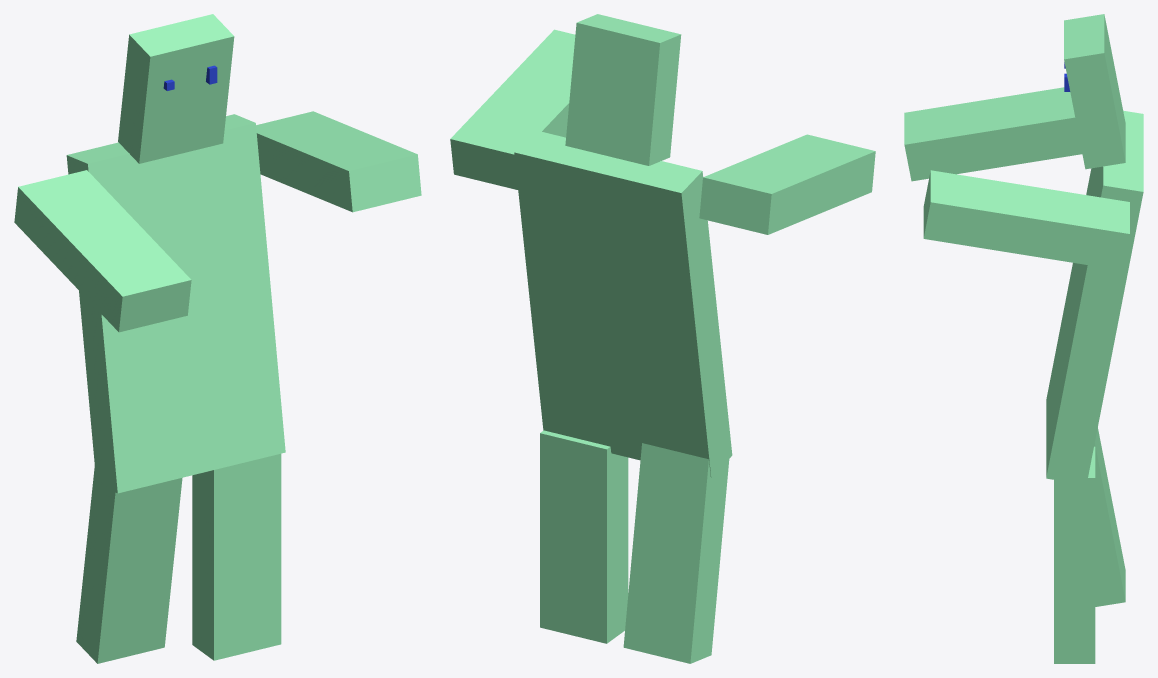
File: UndeadSoldier.fbx
3 renders of one model, left to right at view 1: azimuth 30°, elevation 25°; view 2: azimuth 150°, elevation 25°; view 3: azimuth 270°, elevation 25°, orthographic. The views are drawn at different scales.
Parts seen in each view (by area): view 1: Cube.001; view 2: Cube.001; view 3: Cube.001.
Part boxes in pixels (bbox=[...]): Cube.001: bbox=[14, 14, 421, 663]; Cube.001: bbox=[450, 14, 875, 663]; Cube.001: bbox=[904, 14, 1143, 663].
Bounding box in the file's own units: 82.8 × 159 × 58.28.
